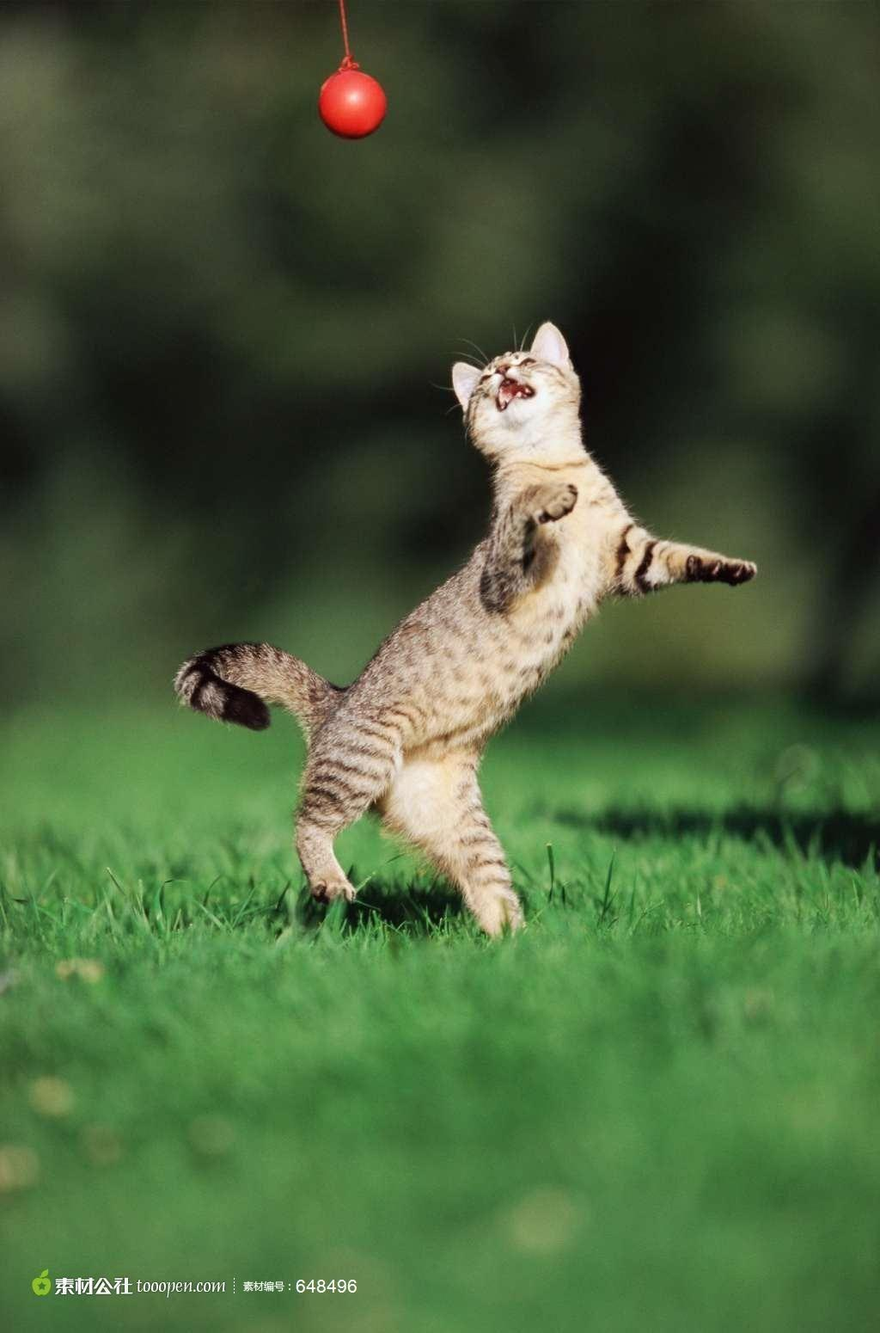non-dog: (170, 316, 761, 945)
